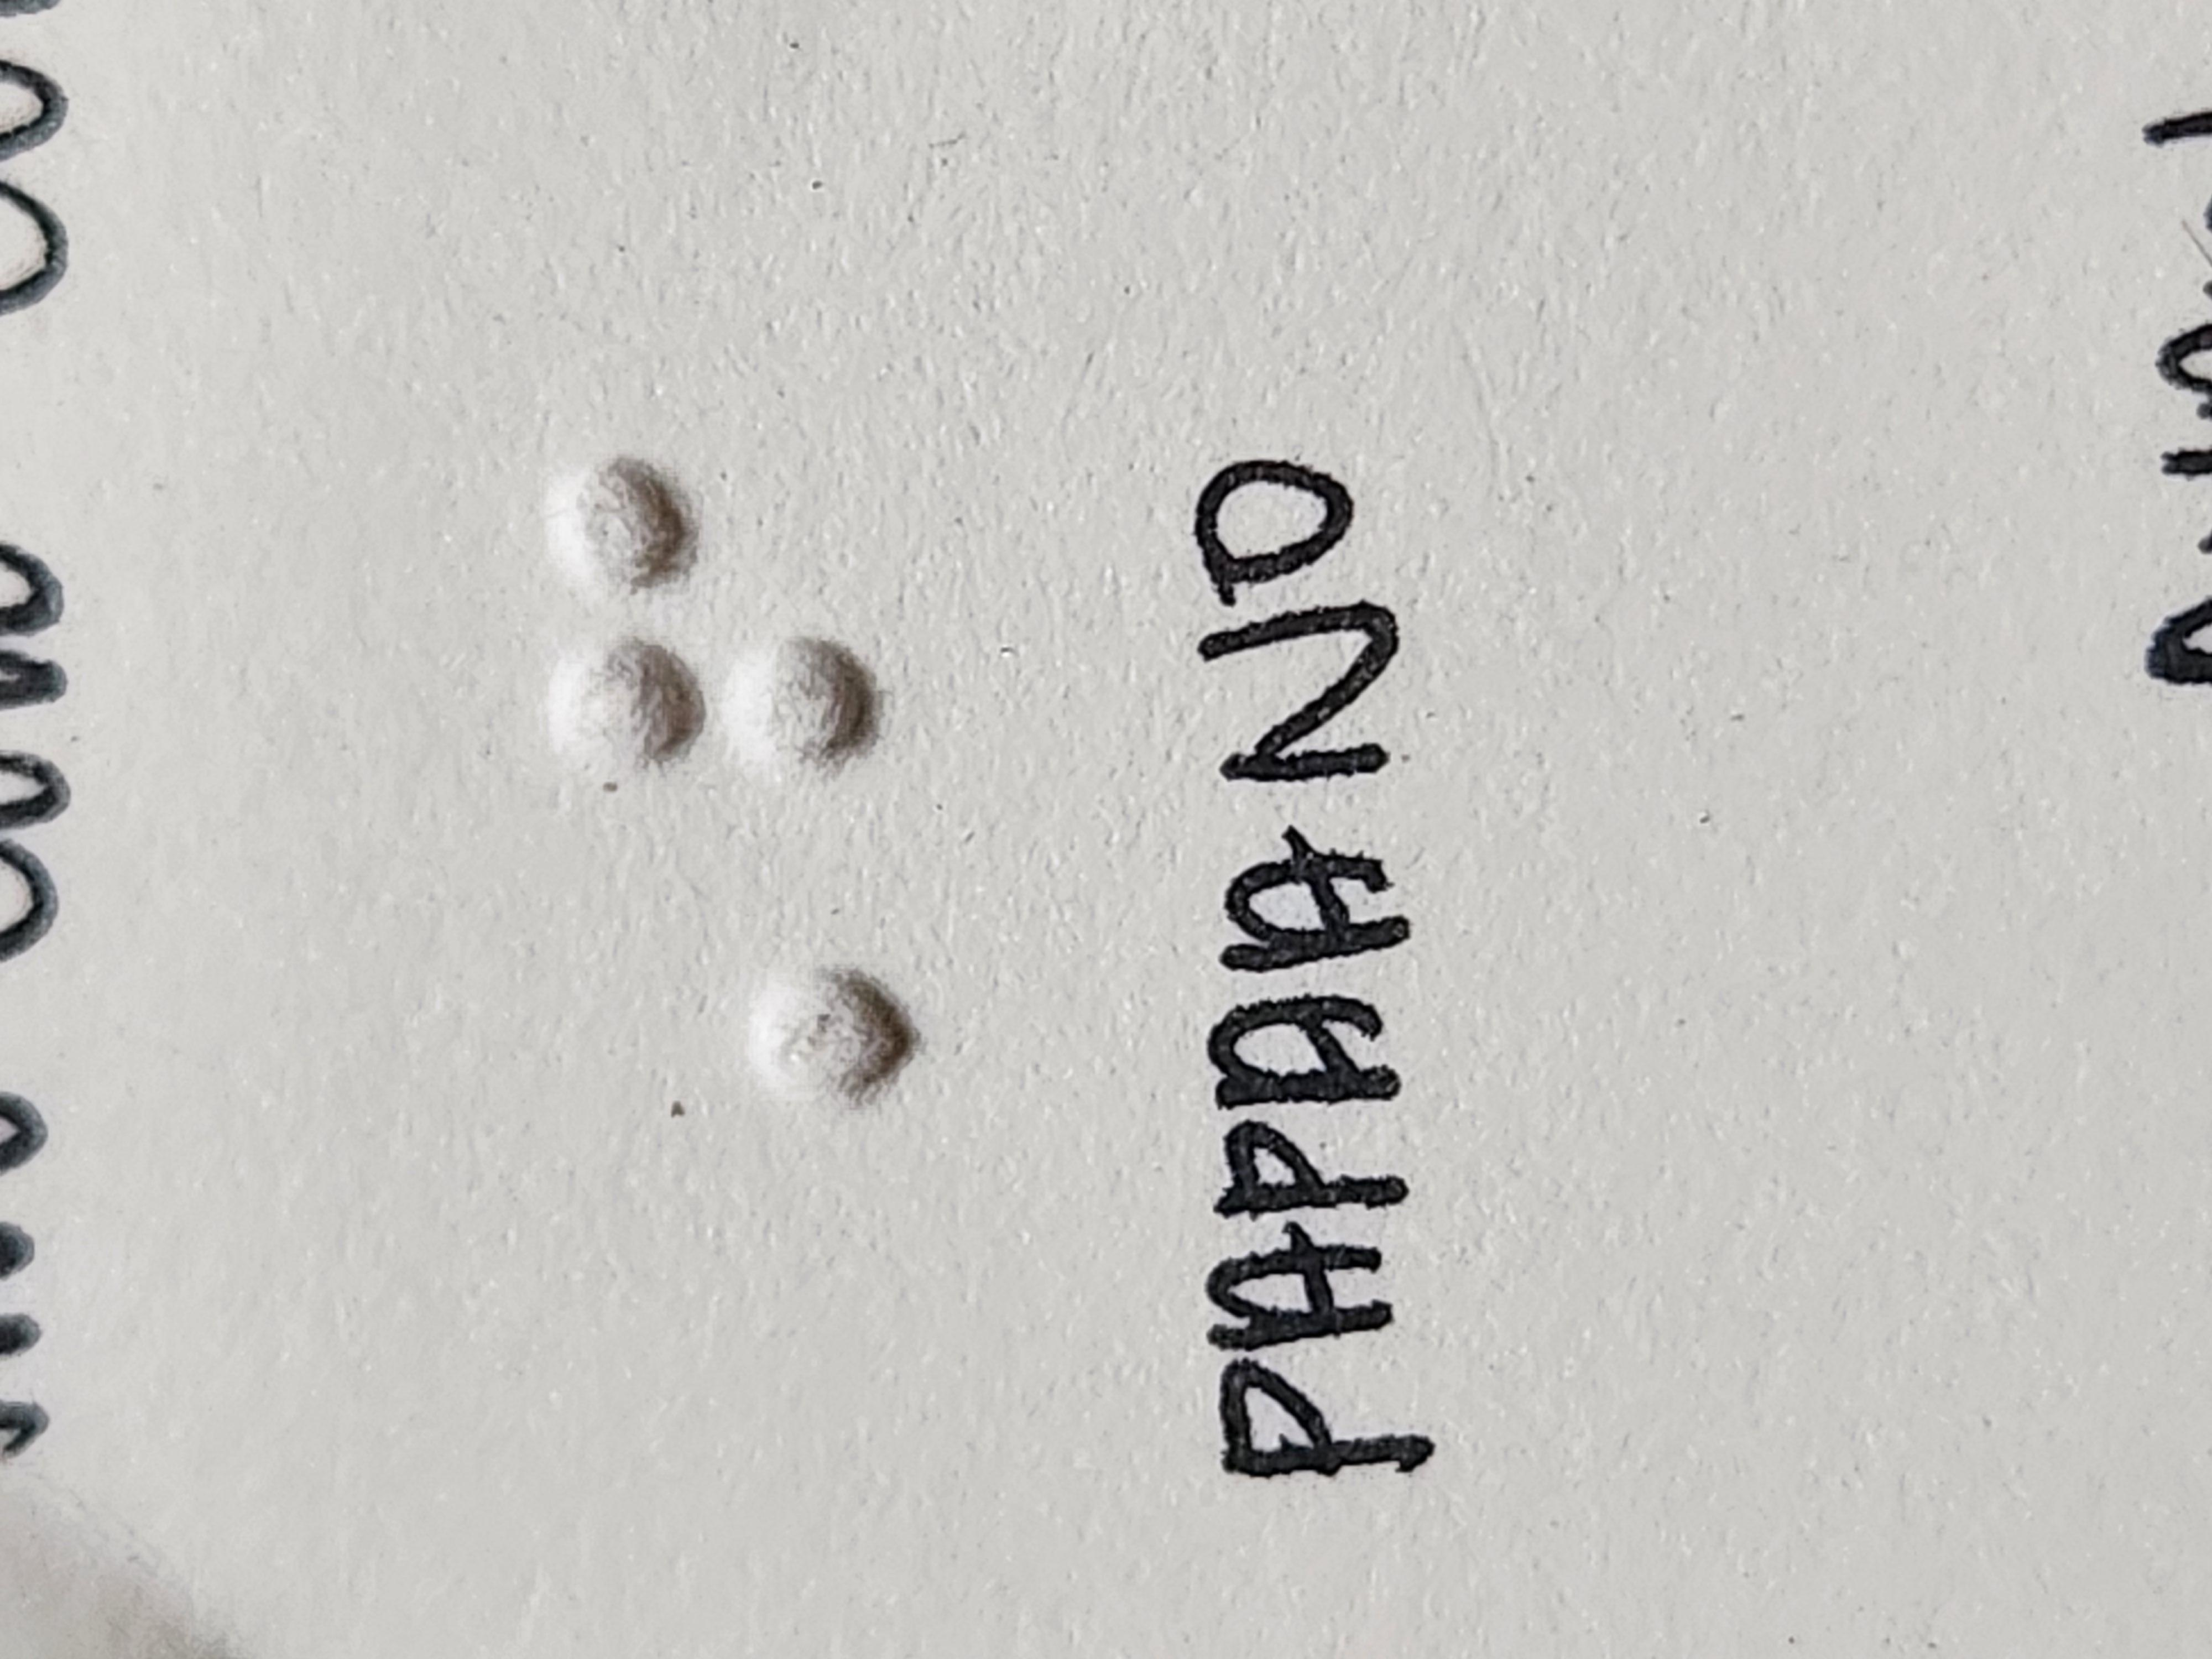dot_5: (512, 403, 927, 802)
two_cell_alphabet_papaano: (1197, 403, 1611, 802)
